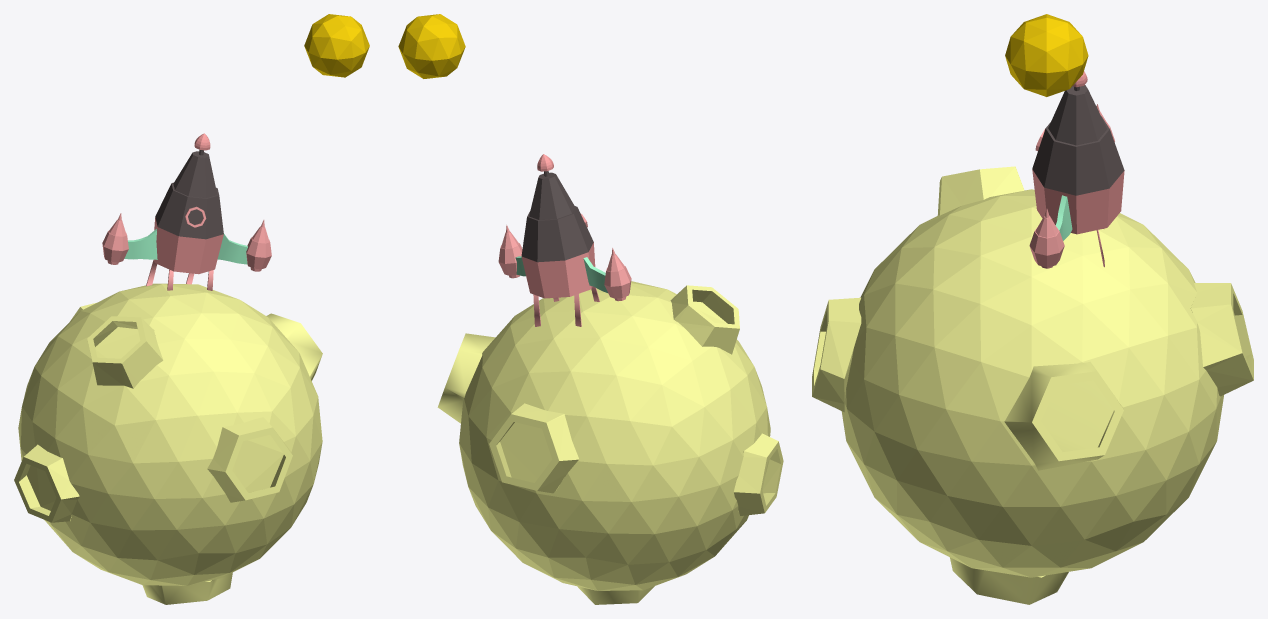
The model's file is planet10.glb.
3 views of the same model, side by side, from view 1: azimuth 30°, elevation 25°; view 2: azimuth 150°, elevation 25°; view 3: azimuth 270°, elevation 25° (orthographic). The views are drawn at different scales.
Parts seen in each view (by area): view 1: GeoSphere001, Object001_02 - Default_0, GeoSphere002, Cylinder007, Cylinder011, Cylinder010, Line002, Line001; view 2: GeoSphere001, Object001_02 - Default_0, GeoSphere002, Cylinder007, Cylinder011, Cylinder010; view 3: GeoSphere001, Object001_02 - Default_0, GeoSphere002, Cylinder007, Cylinder010.
Part boxes in pixels (box(x1,y1,x2,y2)): GeoSphere001: box(14, 283, 322, 604); Object001_02 - Default_0: box(155, 151, 223, 239); GeoSphere002: box(304, 14, 369, 77); Cylinder007: box(154, 217, 223, 274); Cylinder011: box(102, 213, 128, 264); Cylinder010: box(246, 220, 271, 271); Line002: box(124, 229, 157, 259); Line001: box(217, 234, 247, 264); GeoSphere001: box(437, 281, 783, 604); Object001_02 - Default_0: box(521, 172, 593, 262); GeoSphere002: box(398, 14, 465, 78); Cylinder007: box(521, 242, 595, 298); Cylinder011: box(604, 248, 631, 301); Cylinder010: box(498, 225, 522, 278); GeoSphere001: box(812, 166, 1253, 604); Object001_02 - Default_0: box(1032, 85, 1124, 195); GeoSphere002: box(1005, 14, 1088, 96); Cylinder007: box(1032, 169, 1124, 234); Cylinder010: box(1029, 208, 1064, 268).
Bounding box in the file's own units: 158 × 230 × 136.
